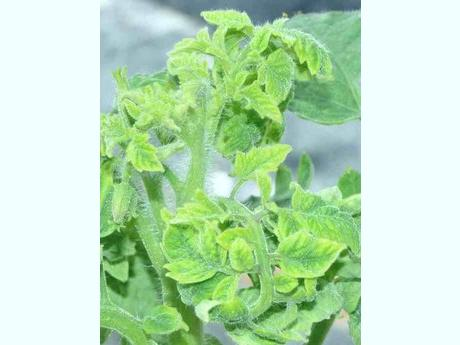Tomato leaf yellow virus: (162, 210, 221, 288), (269, 228, 345, 284), (269, 29, 333, 81), (219, 141, 296, 183), (240, 82, 281, 127), (130, 131, 163, 181)
